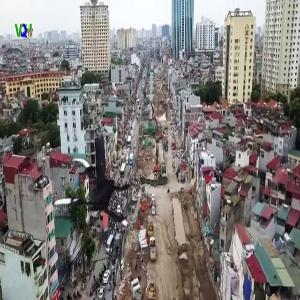drone: (52, 150, 149, 247)
